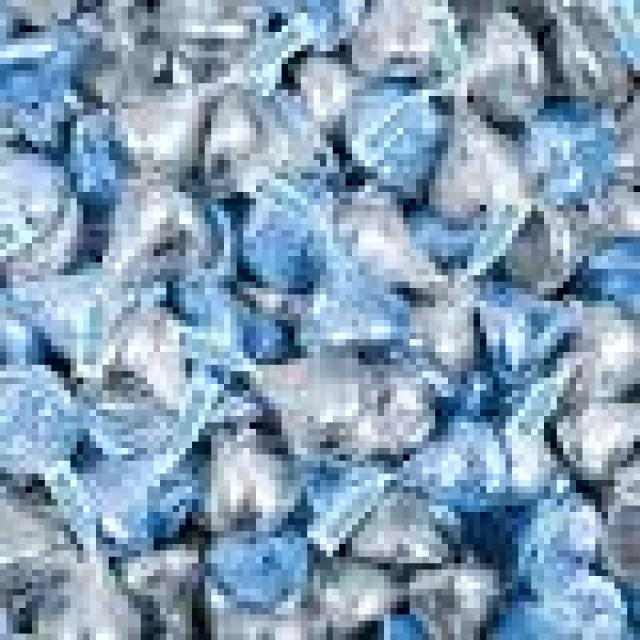kisses: (100, 164, 220, 301), (112, 58, 234, 184), (430, 85, 528, 237), (244, 341, 379, 450), (438, 7, 554, 132), (32, 544, 160, 640), (204, 86, 292, 212), (112, 292, 200, 413), (341, 479, 452, 573), (300, 557, 407, 640), (551, 387, 637, 488), (397, 557, 499, 640)
